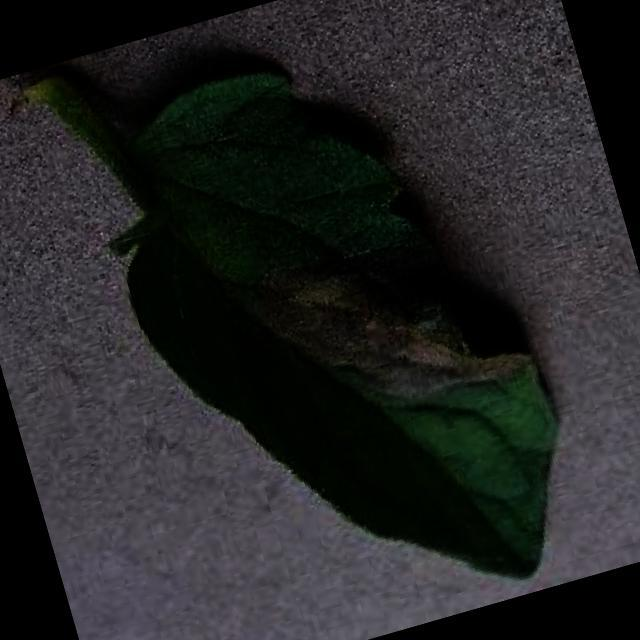Tomato late blight leaf: (75, 8, 598, 640)
